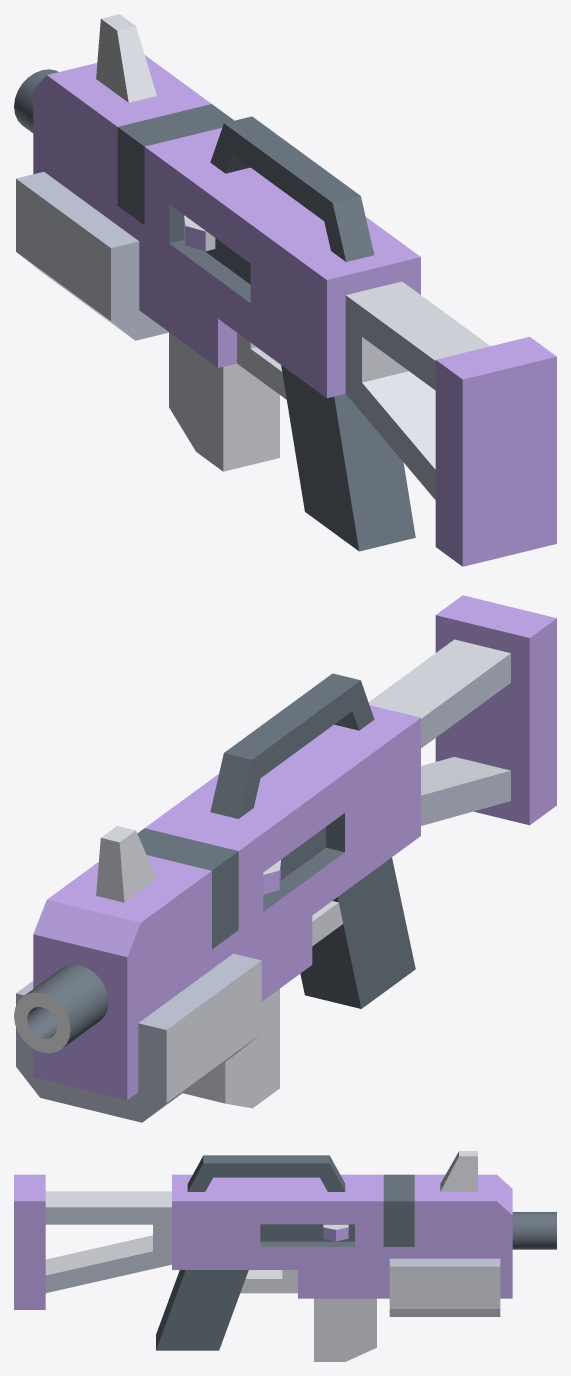
The model's file is blaster.gltf.
3 views of the same model, one above another, from view 1: azimuth 30°, elevation 25°; view 2: azimuth 150°, elevation 25°; view 3: azimuth 270°, elevation 25° (orthographic). The views are drawn at different scales.
Visible parts, largest first — view 1: blasterD; view 2: blasterD; view 3: blasterD.
Part boxes in pixels (<box>): blasterD: <box>14,14,556,566</box>; blasterD: <box>14,595,556,1122</box>; blasterD: <box>14,1151,556,1361</box>.
Size of the model in its own units: 0.16 by 0.35 by 0.86.
